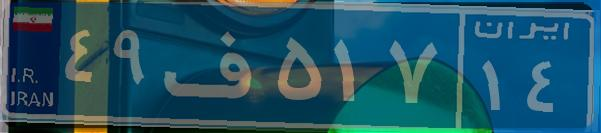1: (330, 28, 385, 110), (475, 38, 525, 113)
4: (57, 26, 110, 107), (525, 38, 570, 115)
5: (273, 28, 330, 110)
7: (385, 28, 445, 110)
9: (110, 28, 158, 105)
ف: (158, 15, 273, 115)
